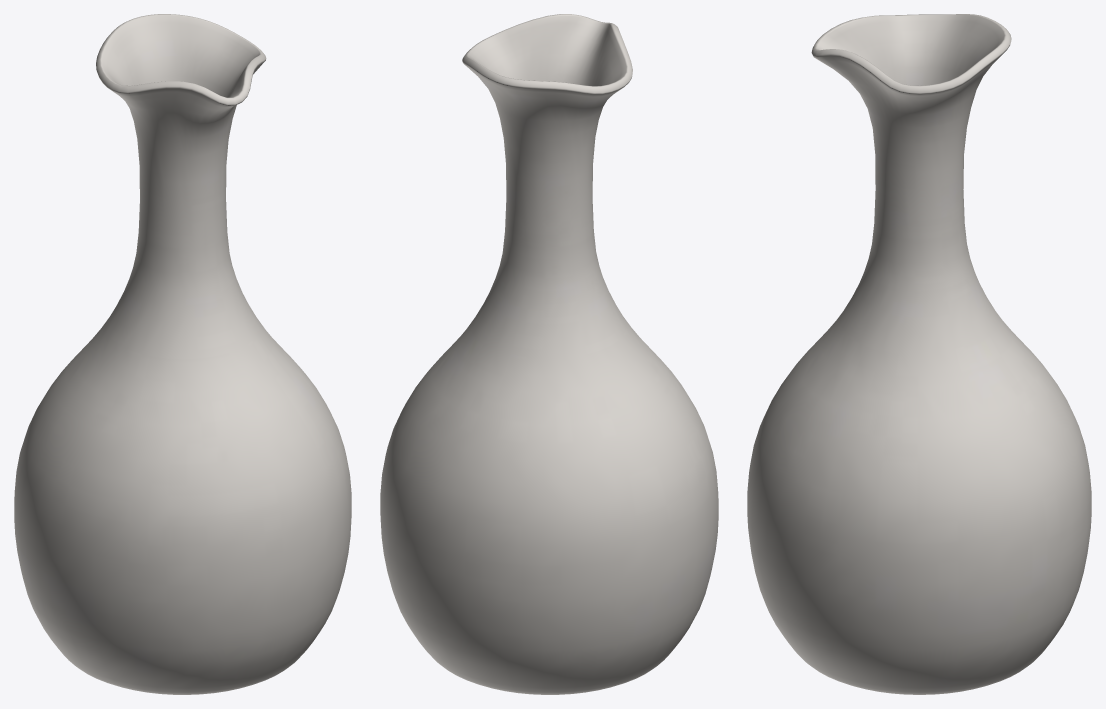
The model's file is ceramic_vase_01.glb.
The picture shows the model from 3 angles, left to right: view 1: azimuth 30°, elevation 25°; view 2: azimuth 150°, elevation 25°; view 3: azimuth 270°, elevation 25°; orthographic projection. The views are drawn at different scales.
Parts seen in each view (by area): view 1: ceramic_vase_01; view 2: ceramic_vase_01; view 3: ceramic_vase_01.
Part boxes in pixels (x1,y1,x2,y2): ceramic_vase_01: [14, 14, 351, 694]; ceramic_vase_01: [380, 14, 718, 694]; ceramic_vase_01: [747, 14, 1091, 694].
Bounding box in the file's own units: 0.2036 × 0.4003 × 0.2036.
1 material, 1 textured.
